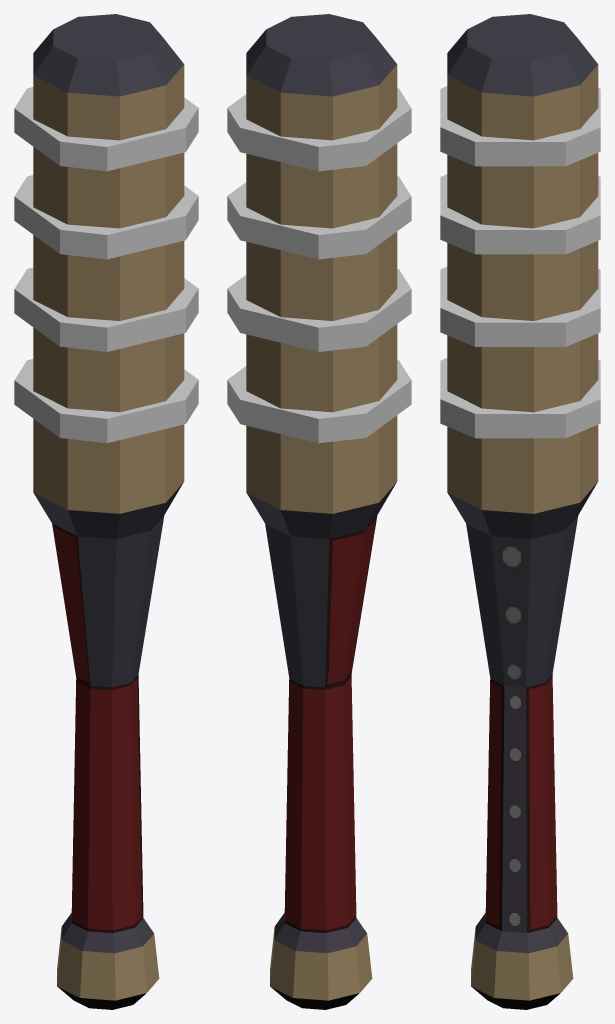
Rendered from MidasCosh.fbx.
3 renders of one model, left to right at view 1: azimuth 30°, elevation 25°; view 2: azimuth 150°, elevation 25°; view 3: azimuth 270°, elevation 25°, orthographic.
Visible parts, largest first — view 1: Cosh_Body, Cosh_Ring_4, Cosh_Ring_3, Cosh_Ring_2, Cosh_Ring_1; view 2: Cosh_Body, Cosh_Ring_4, Cosh_Ring_3, Cosh_Ring_2, Cosh_Ring_1; view 3: Cosh_Body, Cosh_Ring_4, Cosh_Ring_1, Cosh_Ring_2, Cosh_Ring_3.
Part boxes in pixels (x1,y1,x2,y2): Cosh_Body: (33,14,184,1009); Cosh_Ring_4: (14,359,198,443); Cosh_Ring_3: (14,267,198,351); Cosh_Ring_2: (14,175,198,259); Cosh_Ring_1: (14,87,198,171); Cosh_Body: (246,14,397,1009); Cosh_Ring_4: (227,360,411,443); Cosh_Ring_3: (227,268,411,351); Cosh_Ring_2: (227,176,411,259); Cosh_Ring_1: (227,88,411,171); Cosh_Body: (447,14,598,1009); Cosh_Ring_4: (440,358,600,438); Cosh_Ring_1: (440,86,600,166); Cosh_Ring_2: (440,174,600,254); Cosh_Ring_3: (440,267,600,346).
Bounding box in the file's own units: 293 × 1930 × 293.
